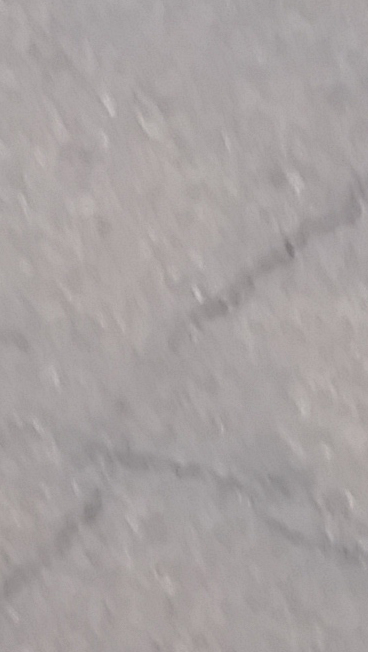A: (24, 179, 365, 592)
